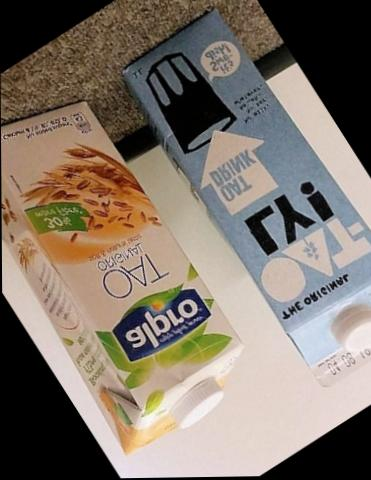cardboard: (124, 0, 369, 385), (1, 102, 243, 477)
